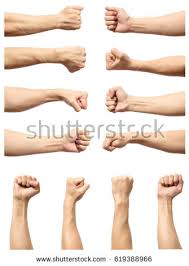fist: (107, 173, 140, 205), (61, 126, 90, 160), (58, 3, 88, 35), (64, 45, 91, 80), (65, 176, 93, 206), (103, 5, 129, 36), (102, 83, 125, 118), (156, 172, 183, 201), (14, 173, 37, 205), (64, 86, 89, 113), (102, 131, 132, 153), (104, 44, 121, 73)
